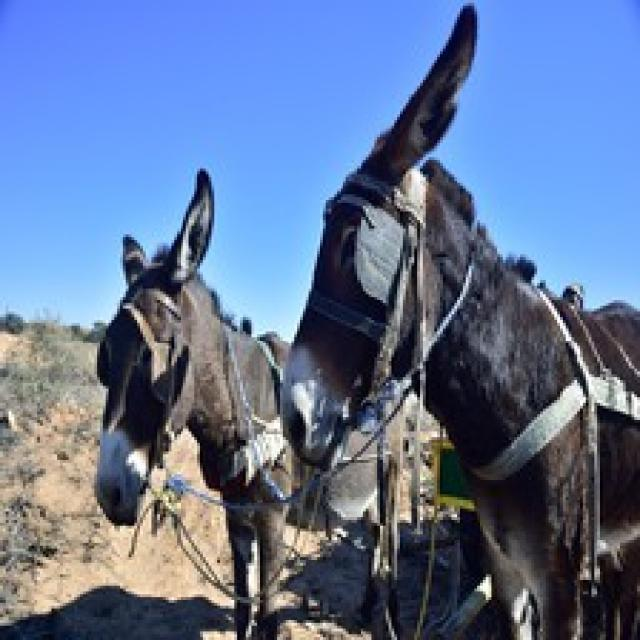Donkey: (285, 5, 640, 640), (73, 157, 393, 640)
